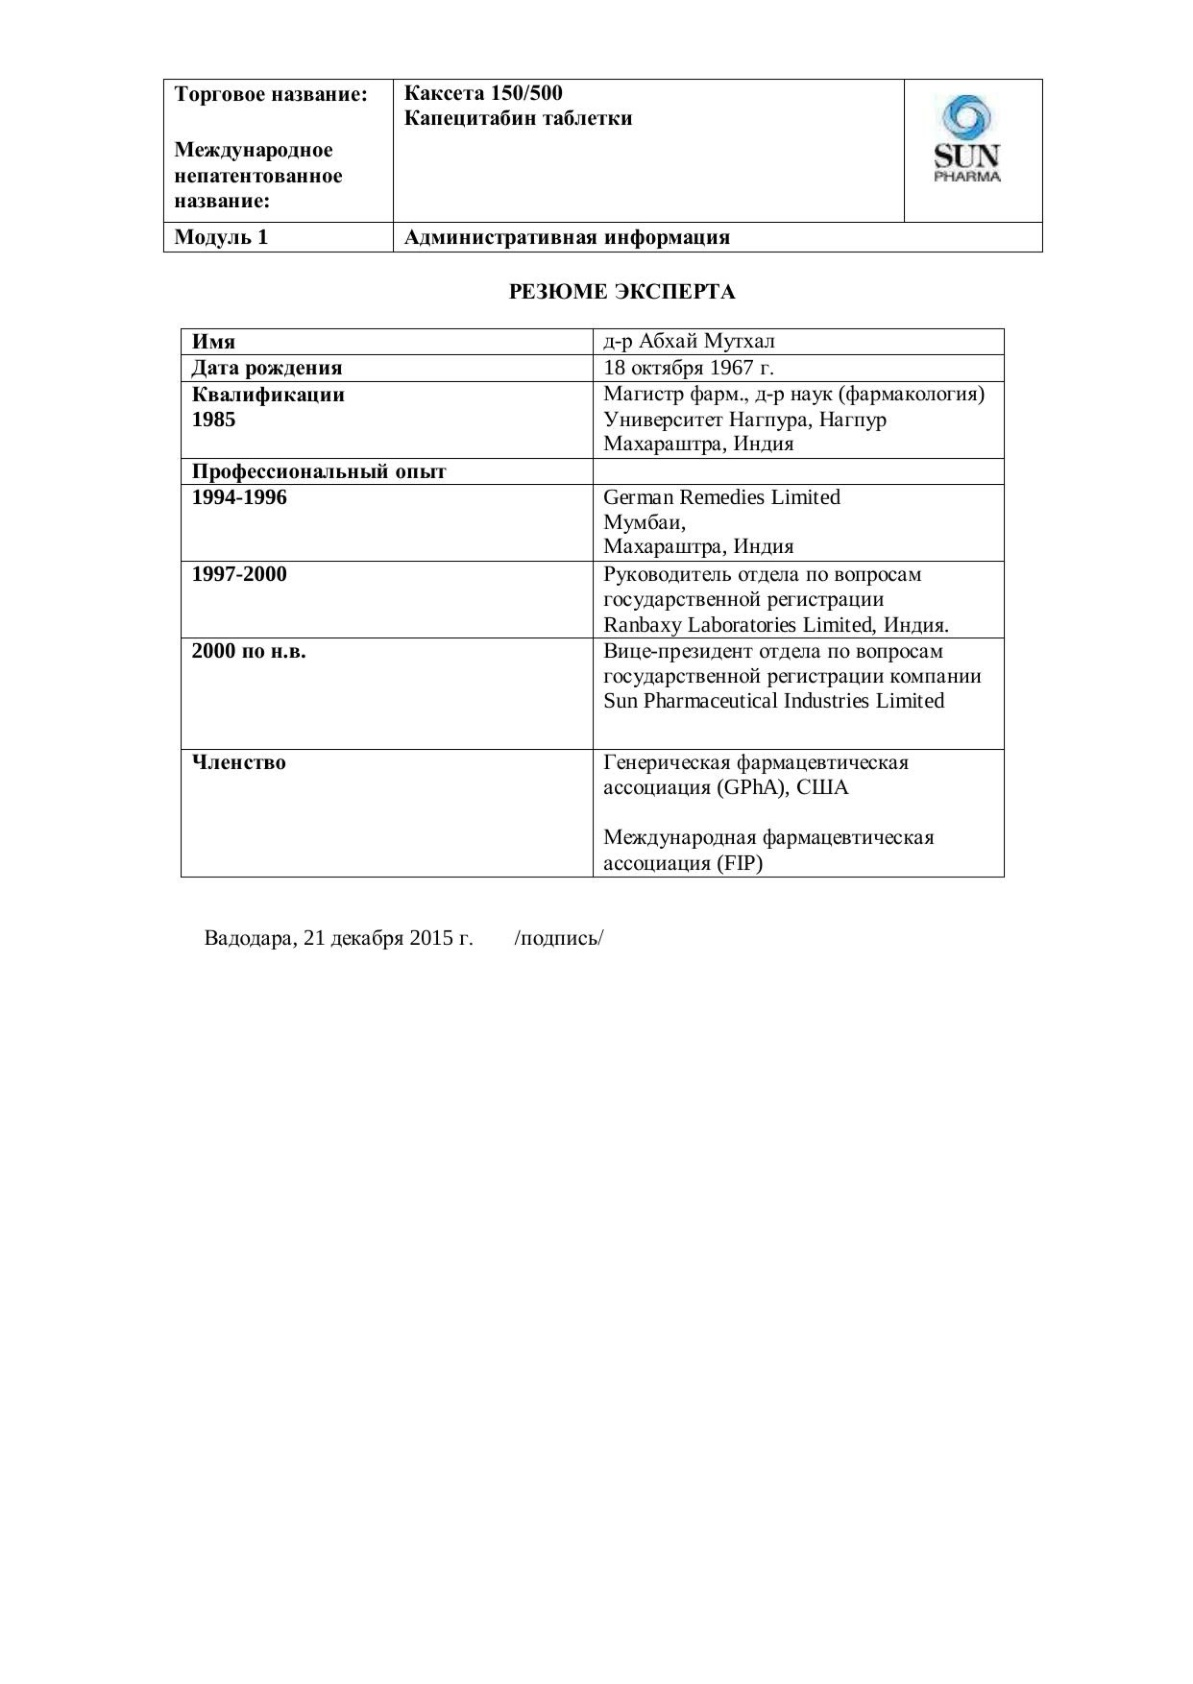full_lined: (179, 327, 1006, 879)
merged_cells: (161, 77, 1045, 254)
